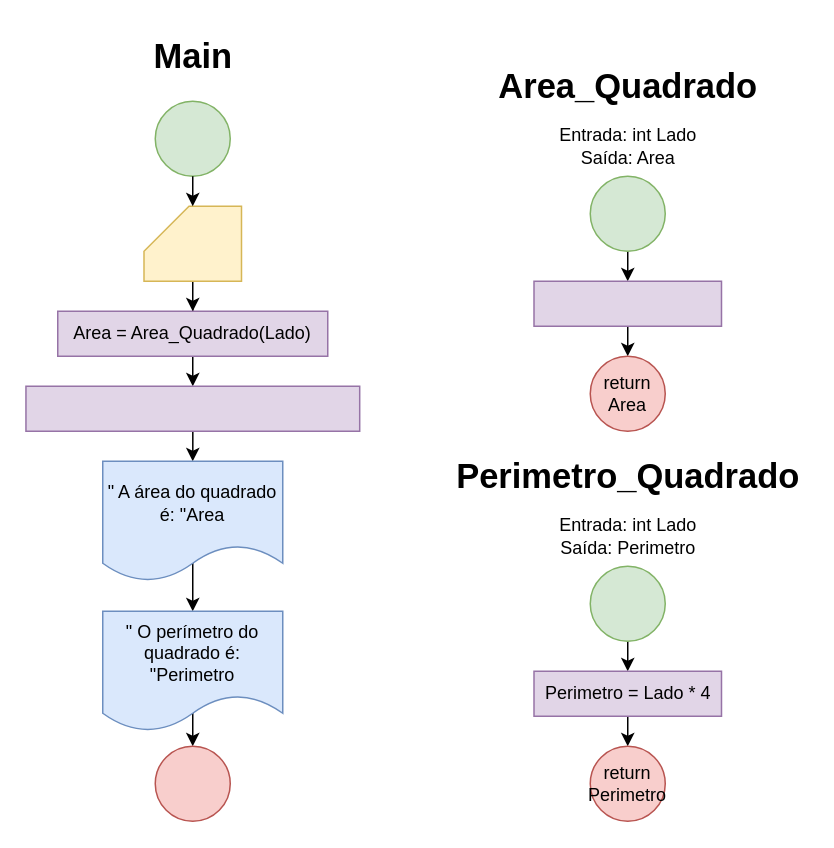
The diagram is 834 pixels wide and 848 high, and some of its shapes have lost their labels. The centre of each missing label's shape, as x and y in pixels:
"Area = Lado * Lado" belongs at point (627, 303).
"Lado" belongs at point (192, 243).
"Perimetro = Perimetro_Quadrado(Lado)" belongs at point (192, 408).
